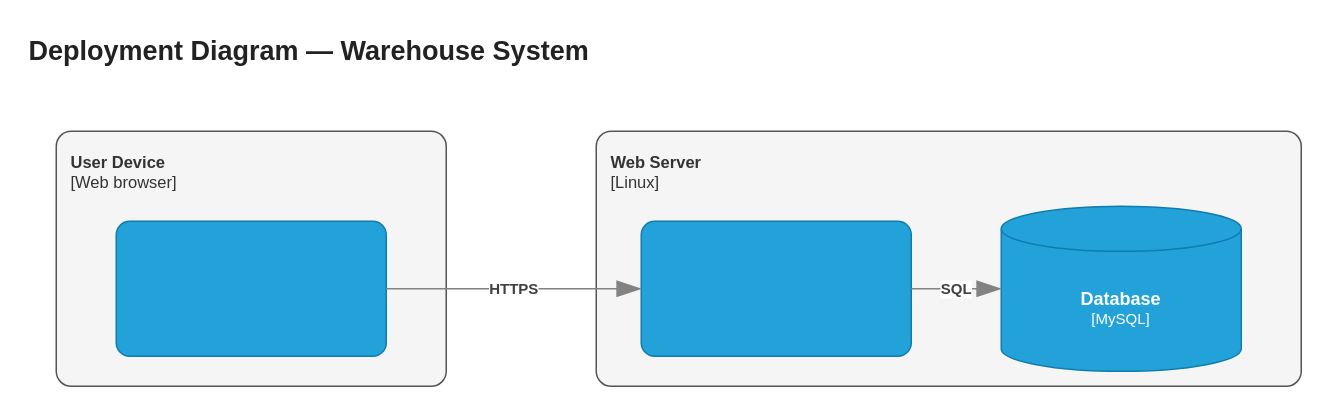
Some shapes in this 1328 by 413 pixel diagram are drawn without their labels. Each missing label, with the centre of its shape:
"API [Node.js / Express]" goes at [775,288].
"Web App [Vue 3]" goes at [250,288].
